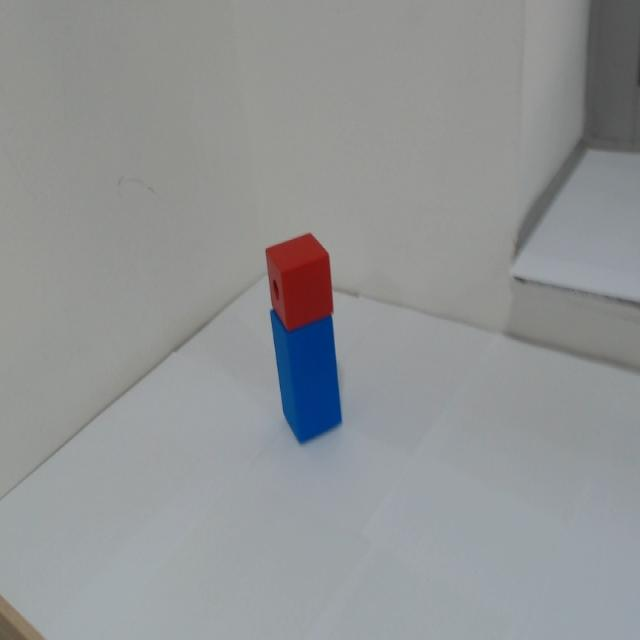cube: (261, 227, 360, 330)
